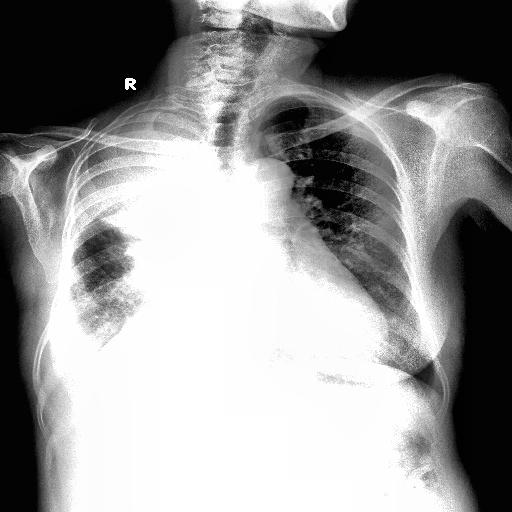0- Aortic enlargement: (236, 159, 298, 193)
1- Atelectasis: (78, 103, 228, 369)
10- Pleural effusion: (78, 103, 228, 369), (46, 274, 200, 412), (38, 310, 106, 388), (38, 294, 96, 378)
3- Cardiomegaly: (235, 158, 295, 200)
4- Consolidation: (96, 243, 196, 371), (102, 193, 202, 294)
7- Lung Opacity: (65, 106, 212, 248), (102, 193, 202, 294), (69, 228, 133, 350)
8- Nodule-Mass: (76, 111, 202, 241)
